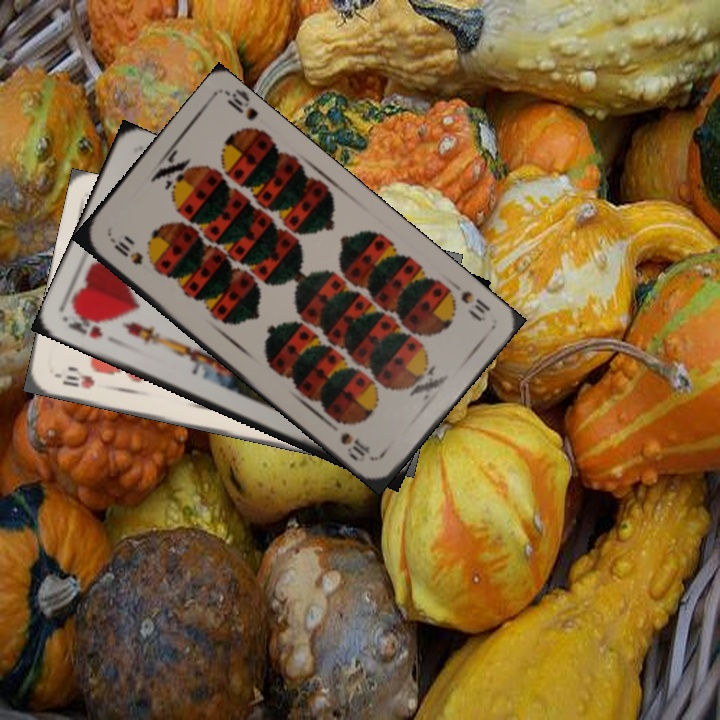H10: (58, 370, 97, 392)
HK: (62, 308, 105, 342)
S10: (445, 277, 493, 324), (105, 233, 146, 268)
